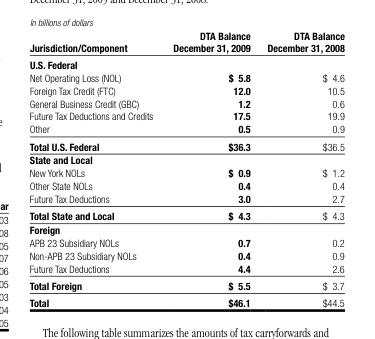table: (28, 28, 343, 308)
table column: (28, 28, 162, 308), (162, 28, 258, 308), (258, 28, 343, 308)
table column header: (28, 28, 343, 55)
table projected row header: (28, 55, 343, 70), (28, 152, 343, 166), (28, 222, 343, 235)
table row: (28, 28, 343, 55), (28, 276, 343, 293), (28, 206, 343, 222), (28, 55, 343, 70), (28, 122, 343, 137), (28, 137, 343, 152), (28, 191, 343, 206), (28, 261, 343, 276), (28, 293, 343, 308), (28, 152, 343, 166), (28, 70, 343, 83), (28, 83, 343, 96), (28, 96, 343, 109), (28, 109, 343, 122), (28, 178, 343, 191), (28, 222, 343, 235), (28, 235, 343, 248), (28, 248, 343, 261), (28, 166, 343, 178)
